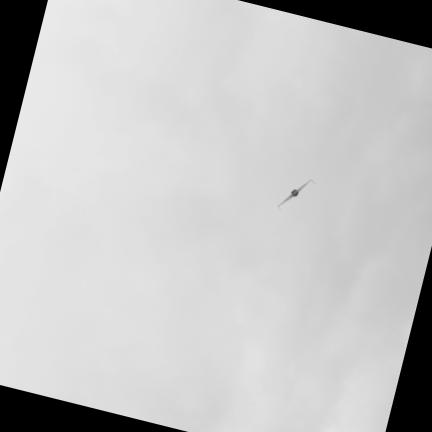Shahed: (278, 179, 311, 208)
